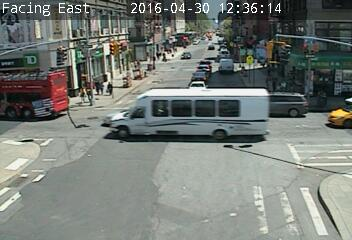neg: (17, 44, 62, 104), (223, 120, 255, 163), (176, 88, 203, 123), (115, 104, 141, 139), (282, 107, 308, 142), (275, 176, 299, 208), (147, 164, 170, 195), (56, 198, 79, 229), (231, 54, 251, 81), (54, 144, 73, 168), (177, 51, 194, 73)
